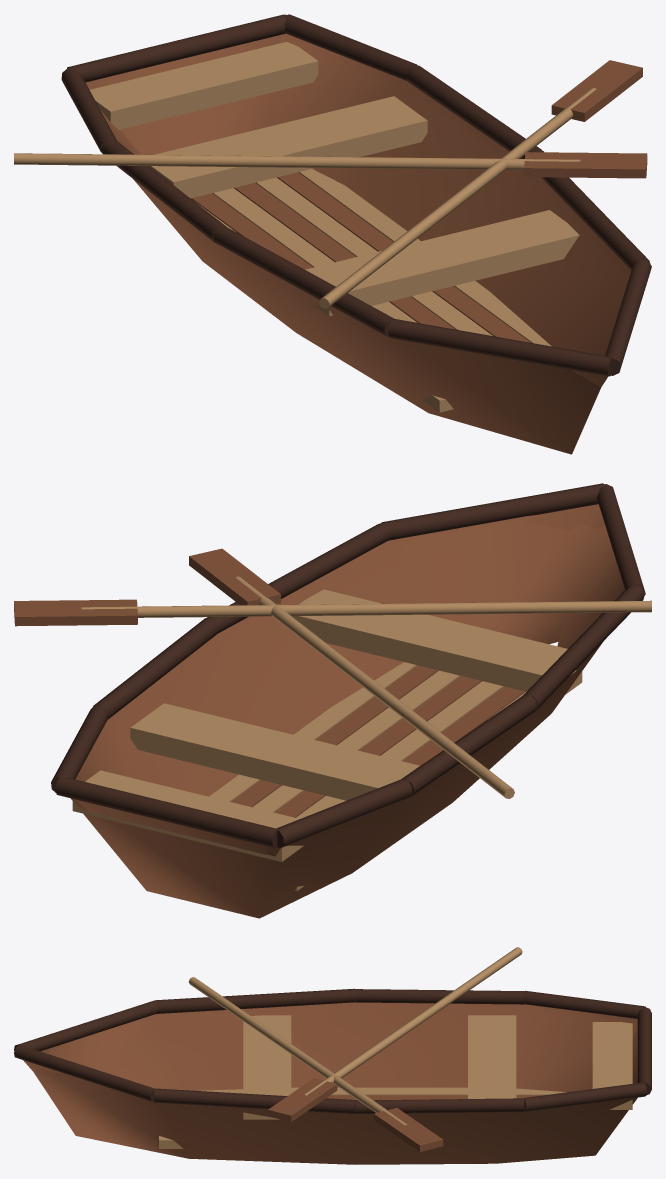
3 views of the same model, one above another, from view 1: azimuth 30°, elevation 25°; view 2: azimuth 150°, elevation 25°; view 3: azimuth 270°, elevation 25° (orthographic). The views are drawn at different scales.
Parts seen in each view (by area): view 1: Wooden rowboat; view 2: Wooden rowboat; view 3: Wooden rowboat.
Boxes of the visible parts, bbox=[...] form: Wooden rowboat: bbox=[14, 14, 651, 454]; Wooden rowboat: bbox=[14, 483, 651, 918]; Wooden rowboat: bbox=[14, 947, 651, 1164].
Size of the model in its own units: 2.93 by 0.687 by 3.97.
